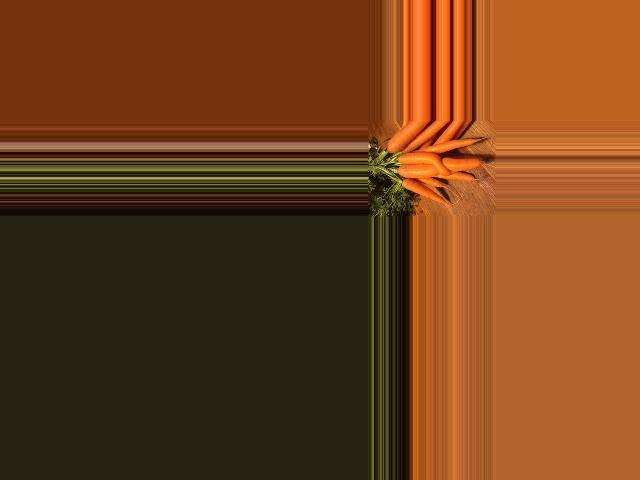carrot: (383, 120, 427, 153)
